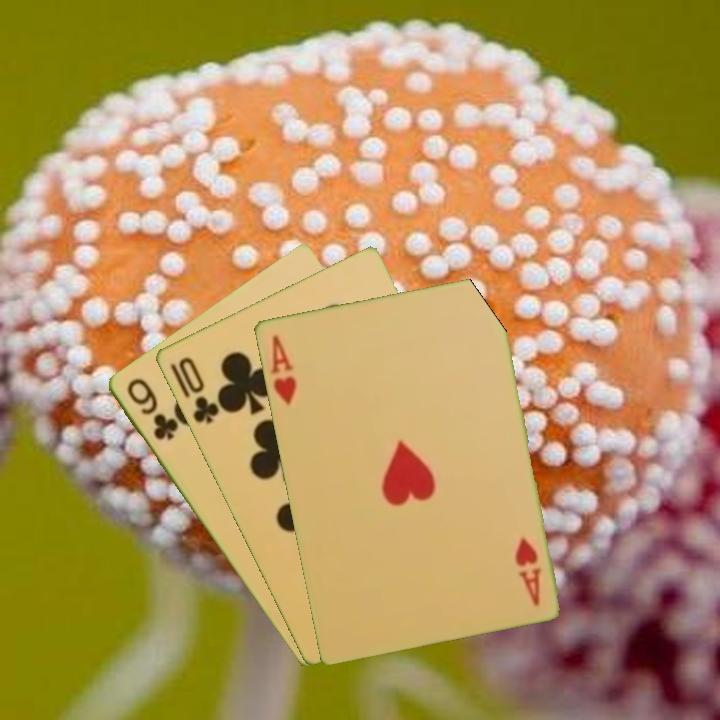10c: (174, 353, 222, 427)
9c: (122, 374, 180, 443)
Ah: (266, 331, 299, 408), (511, 533, 543, 609)
